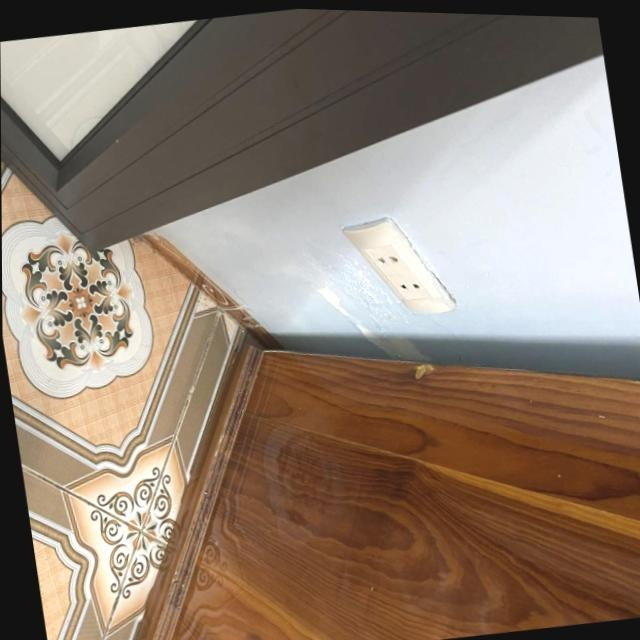outlet: (340, 208, 458, 325)
